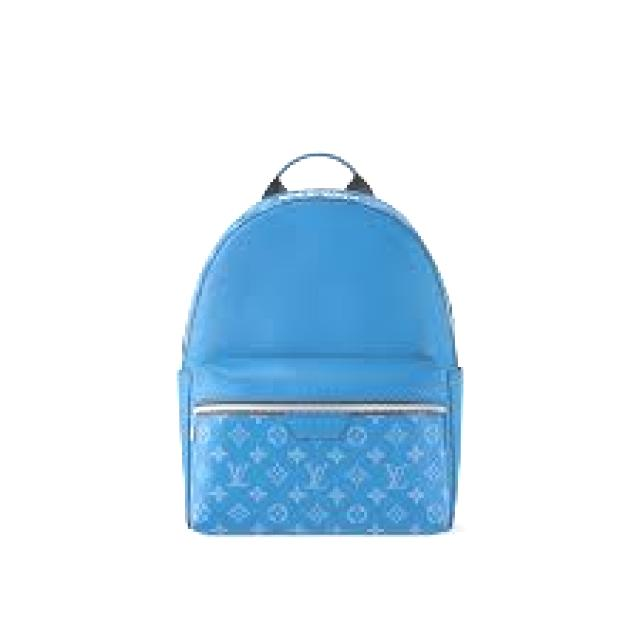backpack: (175, 149, 465, 536)
